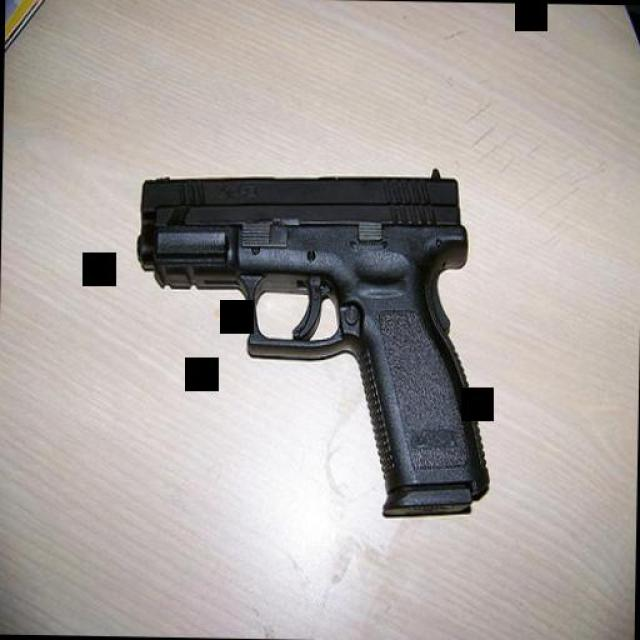gun: (127, 165, 495, 526)
